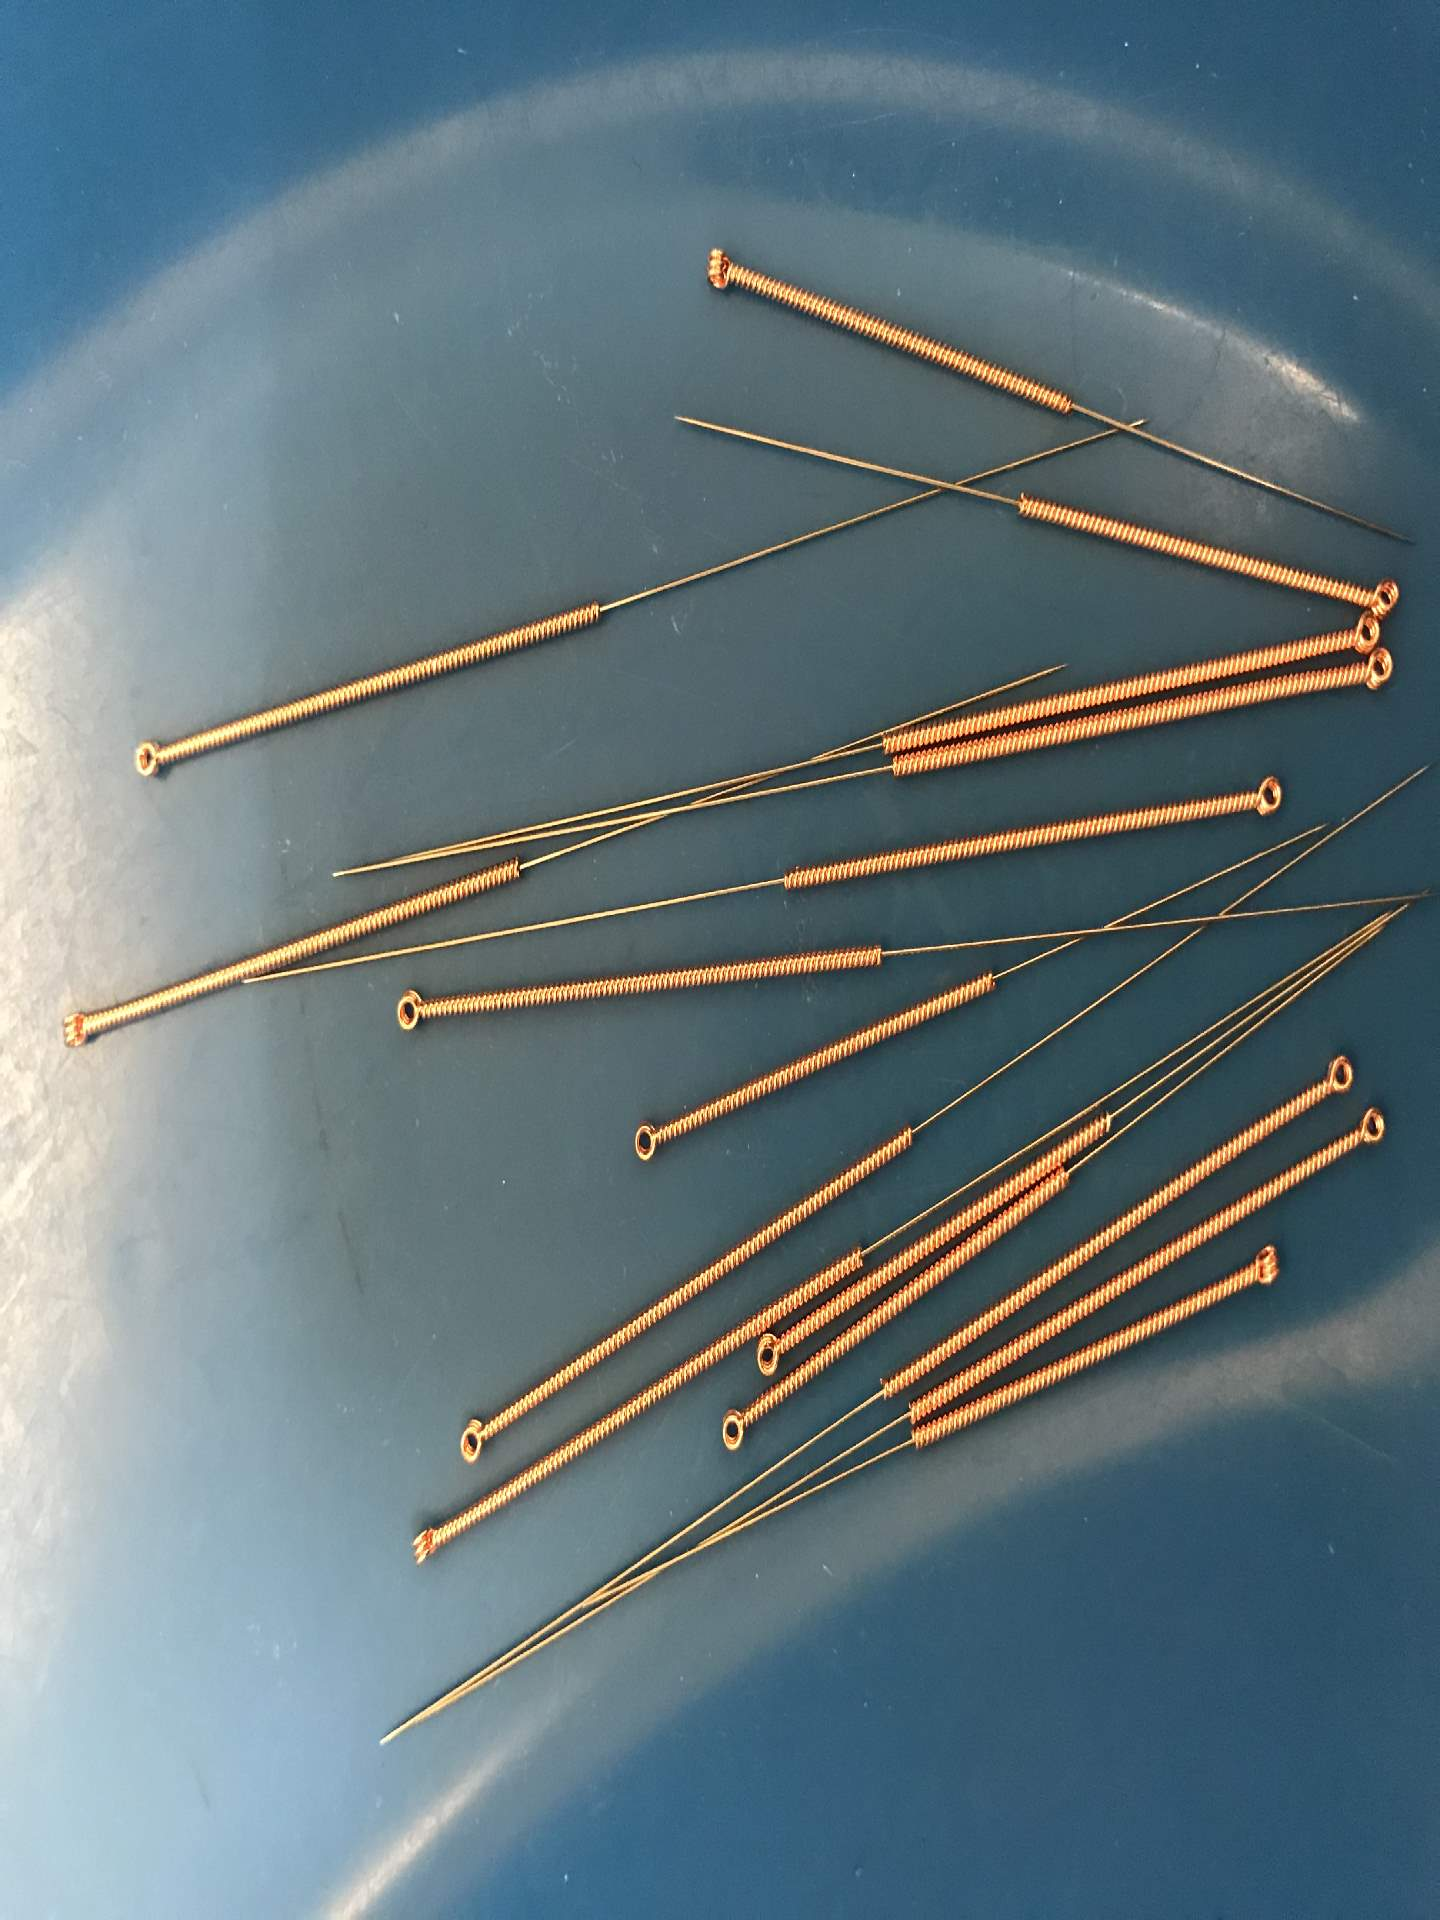needle: (687, 234, 749, 304), (380, 981, 442, 1045), (705, 1395, 765, 1460), (45, 998, 104, 1061), (396, 1510, 455, 1574), (619, 1108, 676, 1173), (1234, 1234, 1289, 1296), (1305, 1045, 1358, 1108), (119, 729, 174, 789), (1237, 770, 1292, 830), (445, 1409, 498, 1471), (1340, 1104, 1390, 1163), (744, 1329, 797, 1380), (1354, 571, 1407, 621), (1352, 649, 1402, 698), (1334, 612, 1390, 656)
